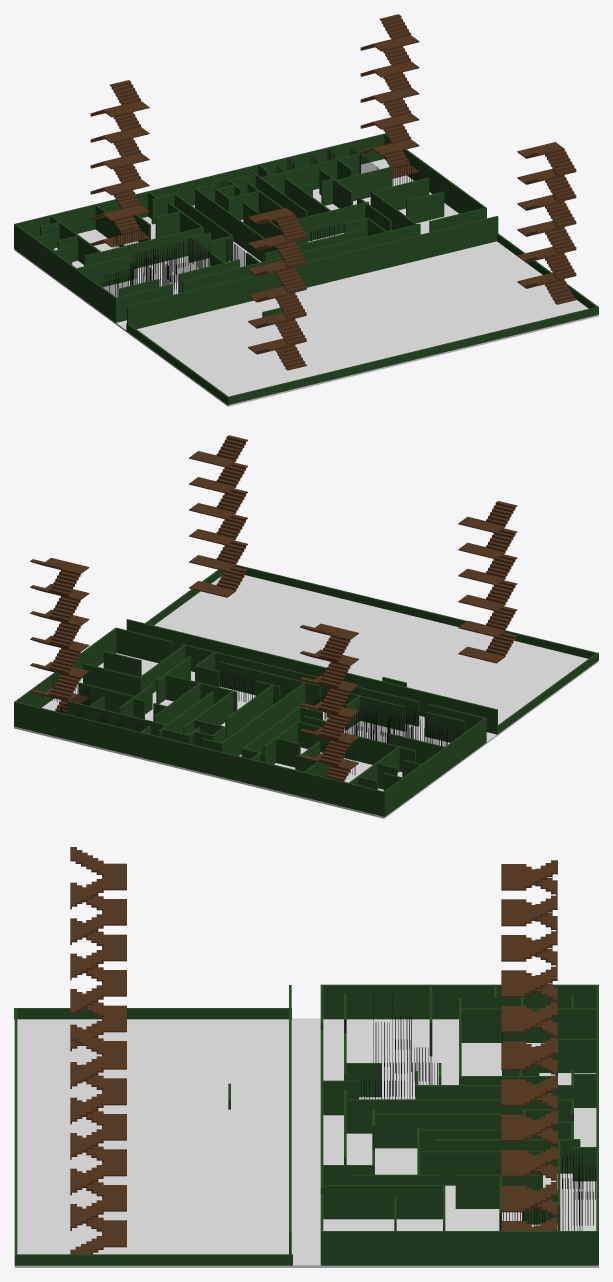
Rendered from DOM.fbx.
The picture shows the model from 3 angles, top to bottom: view 1: azimuth 30°, elevation 25°; view 2: azimuth 150°, elevation 25°; view 3: azimuth 270°, elevation 25°; orthographic projection. The views are drawn at different scales.
Visible parts, largest first — view 1: STENA-1, Куб.004, Куб.002, Куб.003; view 2: STENA-1, Куб.004, Куб.002, Куб.003; view 3: Куб.004, STENA-1, Куб.002, Куб.003.
Part boxes in pixels (<box>): STENA-1: <box>14,133,598,405</box>; Куб.004: <box>14,159,598,406</box>; Куб.002: <box>90,14,576,370</box>; Куб.003: <box>99,147,418,296</box>; STENA-1: <box>14,564,598,816</box>; Куб.004: <box>14,575,598,818</box>; Куб.002: <box>30,435,517,781</box>; Куб.003: <box>52,671,463,775</box>; Куб.004: <box>14,1018,598,1267</box>; STENA-1: <box>14,984,598,1265</box>; Куб.002: <box>70,847,557,1254</box>; Куб.003: <box>345,986,595,1230</box>.
Size of the model in its own units: 3884 by 1569 by 3883.
